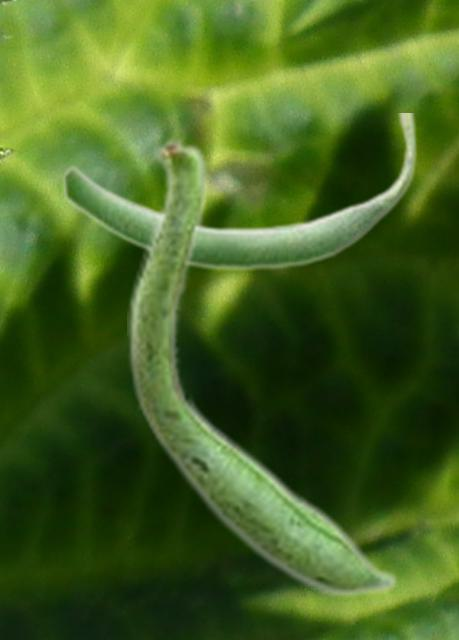french_bean: (127, 133, 398, 598), (61, 113, 417, 272)
